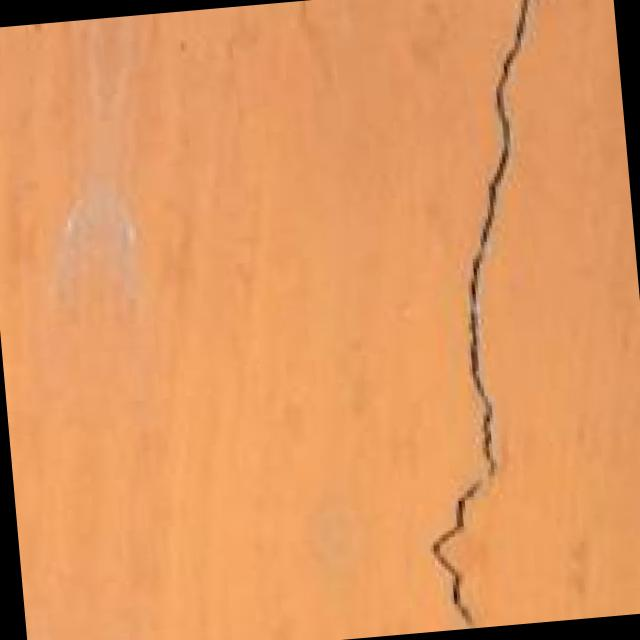crack: (378, 0, 640, 628)
